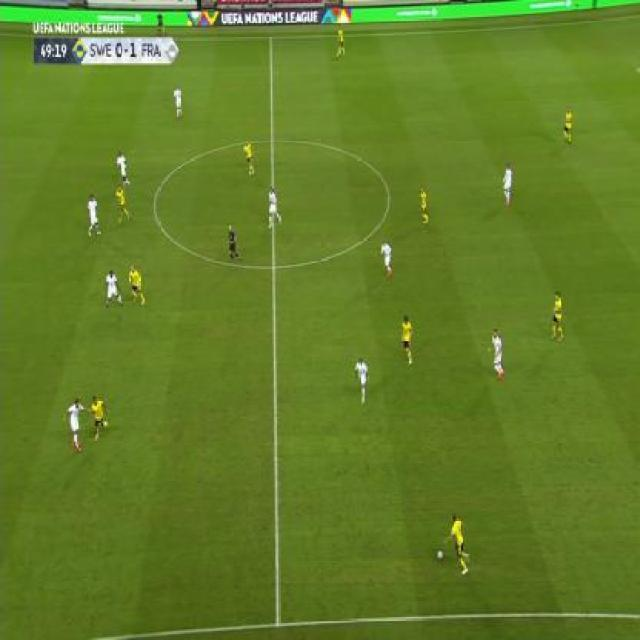ball: (436, 549, 444, 562)
player: (445, 512, 470, 578), (62, 396, 87, 452), (87, 395, 109, 441), (487, 329, 506, 380), (102, 268, 124, 310), (126, 262, 146, 307), (353, 356, 370, 407), (549, 289, 565, 343), (399, 312, 415, 366), (86, 192, 102, 240), (267, 185, 283, 231), (227, 223, 243, 265), (115, 183, 131, 223), (378, 239, 394, 279), (500, 162, 514, 207), (115, 150, 131, 189), (242, 138, 256, 177), (418, 185, 431, 227), (561, 106, 574, 146), (335, 24, 348, 57), (172, 85, 183, 119), (156, 11, 167, 34)
